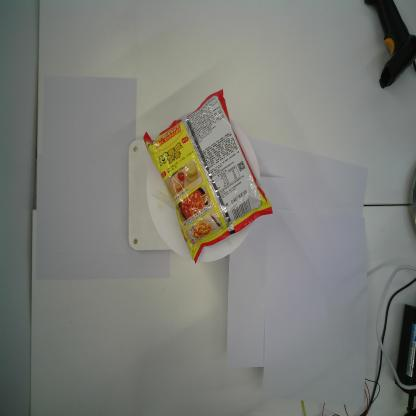Instant Noodles: (142, 87, 272, 263)
